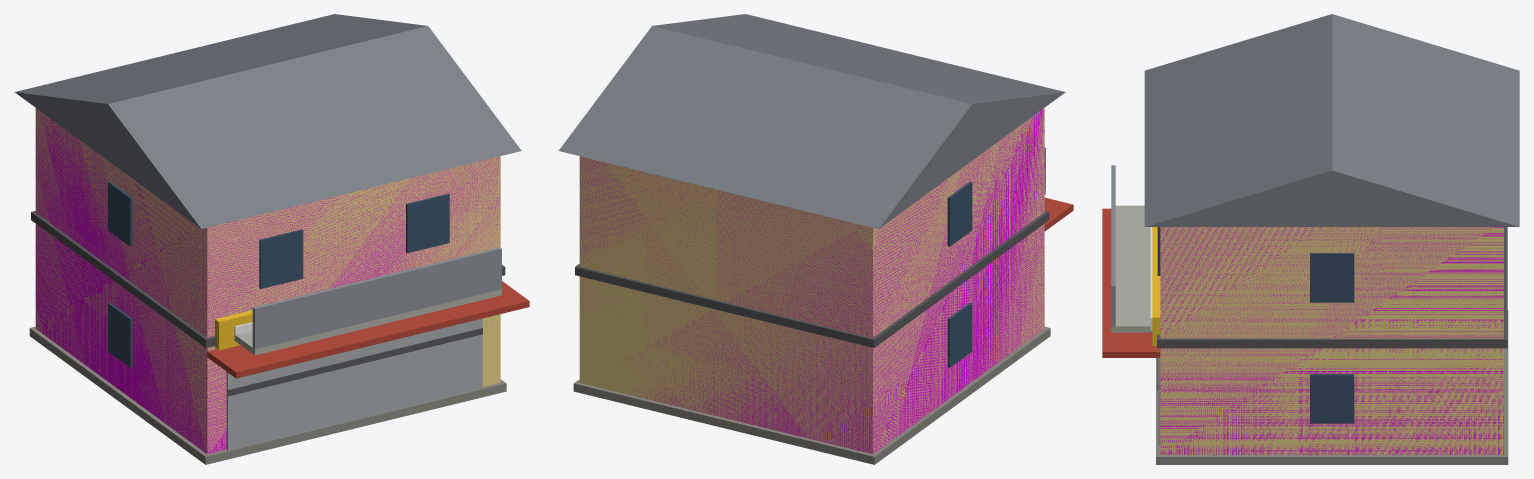
The model's file is MixedUse_2S_01.glb.
3 views of the same model, side by side, from view 1: azimuth 30°, elevation 25°; view 2: azimuth 150°, elevation 25°; view 3: azimuth 270°, elevation 25° (orthographic).
Visible parts, largest first — view 1: MixedUse_2S_01, MixedUse_2S_01_COL; view 2: MixedUse_2S_01, MixedUse_2S_01_COL; view 3: MixedUse_2S_01, MixedUse_2S_01_COL.
Boxes of the visible parts, <box> form: MixedUse_2S_01: <box>14,14,529,464</box>; MixedUse_2S_01_COL: <box>35,109,500,454</box>; MixedUse_2S_01: <box>558,14,1073,464</box>; MixedUse_2S_01_COL: <box>579,109,1044,453</box>; MixedUse_2S_01: <box>1102,14,1519,464</box>; MixedUse_2S_01_COL: <box>1160,227,1503,454</box>.
Bounding box in the file's own units: 8.3 × 7.4 × 9.35.
